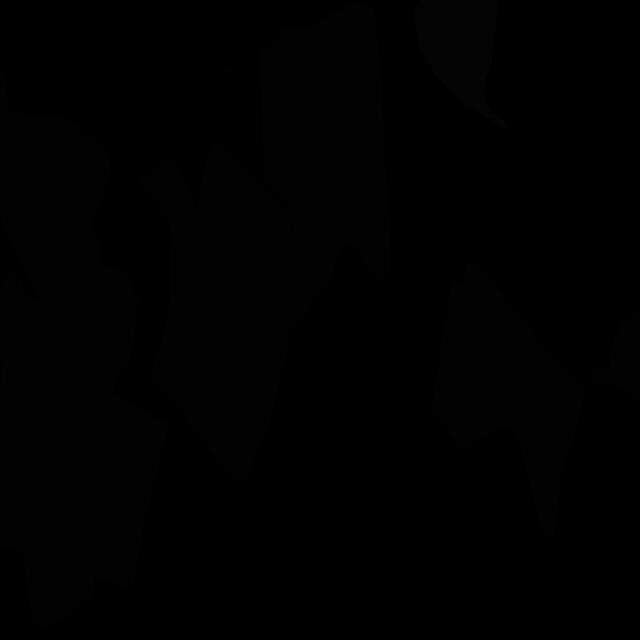cardboard: (140, 143, 293, 481), (430, 255, 586, 544), (259, 1, 390, 336), (0, 360, 170, 591), (0, 66, 112, 409), (90, 259, 140, 393), (22, 551, 95, 631), (589, 310, 640, 410)
rigid_plastic: (192, 65, 259, 154)
soft_plastic: (414, 0, 509, 131)
